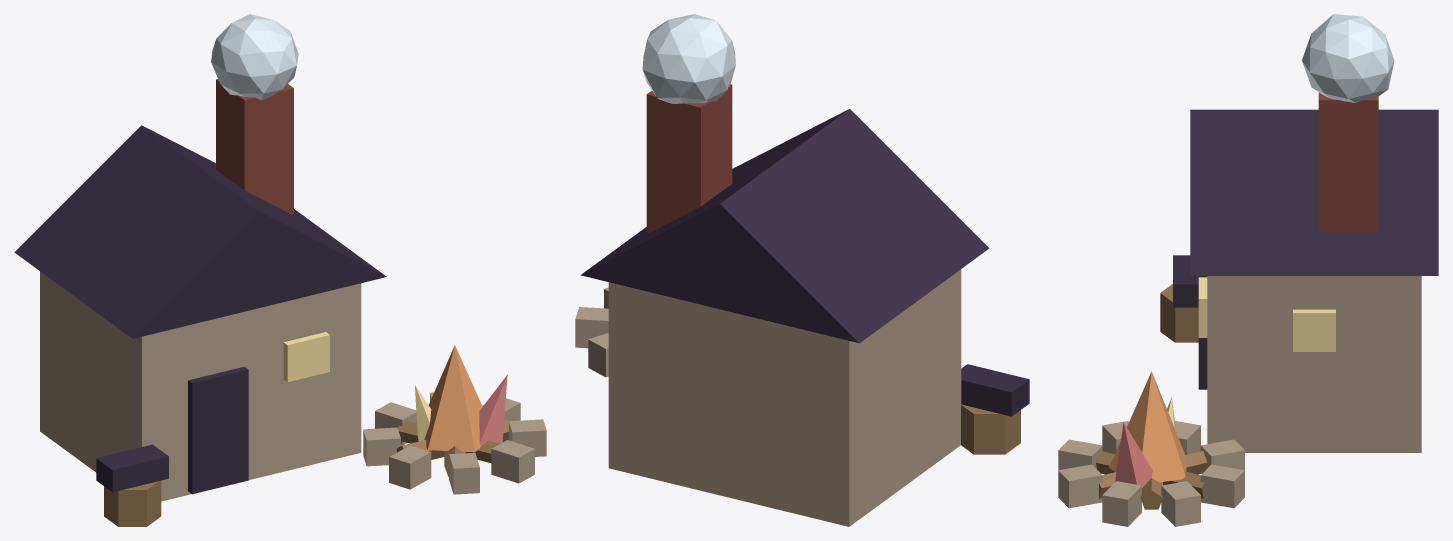
File: volcanic-landmark-s2.glb
The picture shows the model from 3 angles, left to right: view 1: azimuth 30°, elevation 25°; view 2: azimuth 150°, elevation 25°; view 3: azimuth 270°, elevation 25°; orthographic projection. The views are drawn at different scales.
Visible parts, largest first — view 1: volcanic-landmark-s2; view 2: volcanic-landmark-s2; view 3: volcanic-landmark-s2.
Part boxes in pixels (x1,y1,x2,y2): volcanic-landmark-s2: (14,14,546,526); volcanic-landmark-s2: (575,14,1029,526); volcanic-landmark-s2: (1058,14,1438,526).
Bounding box in the file's own units: 1.16 × 1.07 × 0.888.
